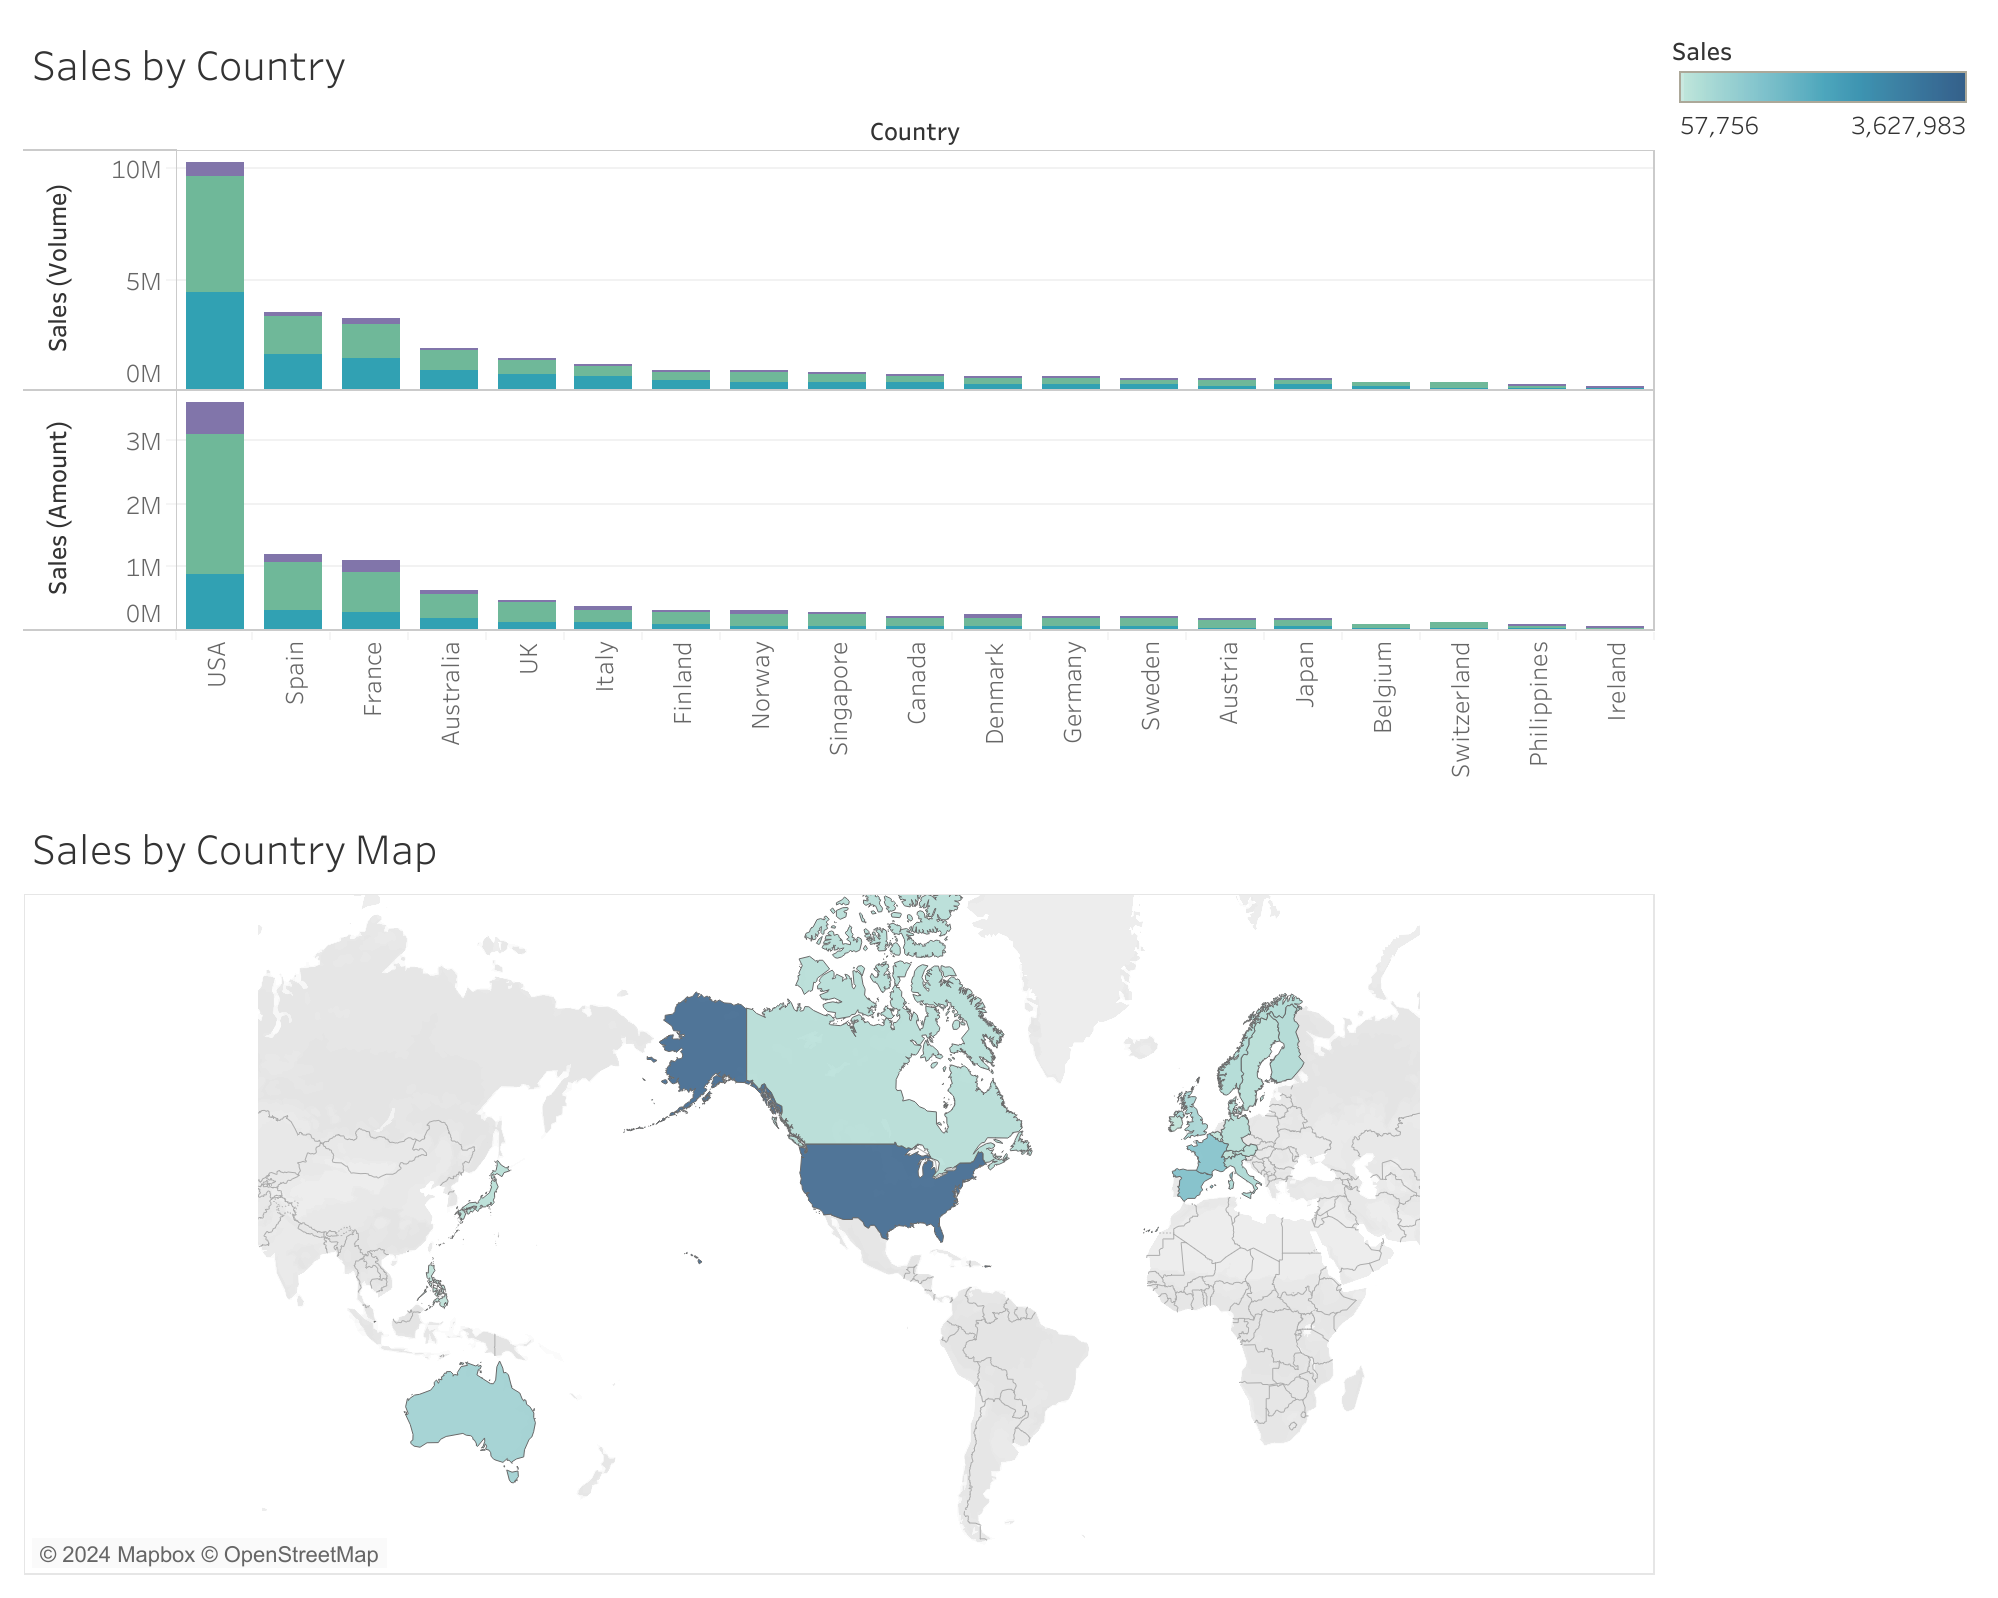

This screenshot's page, from the dashboard's own definition file:
{"tool":"tableau","page":{"name":"Sales by Country","canvas":[1000,800],"ordinal":1},"visuals":[{"type":"worksheet","title":"Sales by Country Bar Chart","mark":"Automatic","rows":["ORDERNUMBER","SALES"],"cols":["COUNTRY"],"box":[8,8,824,392]},{"type":"legend","title":"Sales by Country Map","param":"[federated.1szi0xx1yp2ei415f7t4a0ef19cy].[sum:SALES:qk]","box":[832,8,160,65]},{"type":"worksheet","title":"Sales by Country Map","mark":"Automatic","box":[8,400,824,392]}]}

Visuals, with their boxes in screenshot pixels (x1, y1, x2, y2), scaled from the page's 1000x800 canvas onto the 1998x1598 screenshot:
"Sales by Country Bar Chart" worksheet: 16, 16, 1662, 799
"Sales by Country Map" legend: 1662, 16, 1982, 146
"Sales by Country Map" worksheet: 16, 799, 1662, 1582
